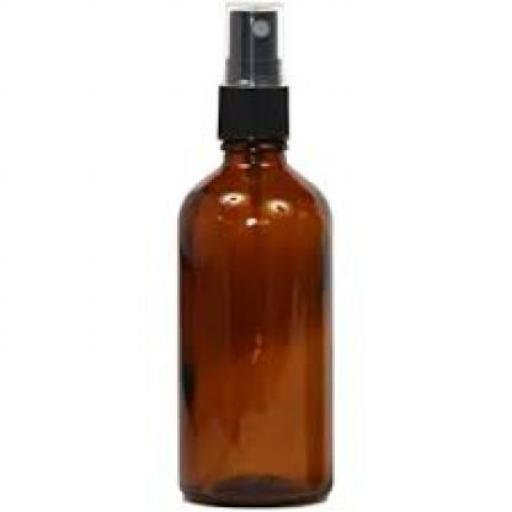glass: (175, 138, 330, 506)
plastic: (214, 0, 288, 144)
